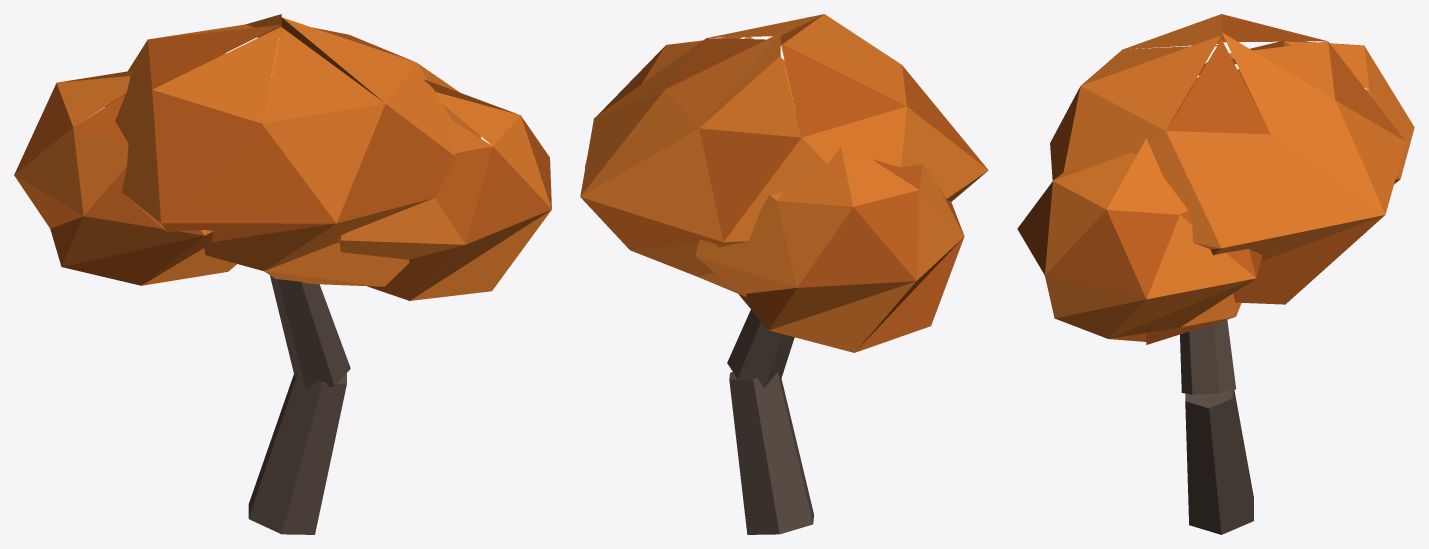
The model's file is autumn_orange.glb.
3 views of the same model, side by side, from view 1: azimuth 30°, elevation 25°; view 2: azimuth 150°, elevation 25°; view 3: azimuth 270°, elevation 25° (orthographic). The views are drawn at different scales.
Visible parts, largest first — view 1: autumn_orange2; view 2: autumn_orange2; view 3: autumn_orange2.
Part boxes in pixels (box(x1,y1,x2,y2)): autumn_orange2: box(14, 14, 551, 534); autumn_orange2: box(580, 14, 988, 534); autumn_orange2: box(1017, 14, 1414, 534).
Size of the model in its own units: 4.72 by 5.37 by 3.97.
